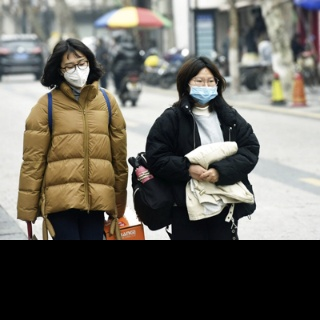with_mask: (188, 75, 219, 107), (60, 57, 90, 88)
